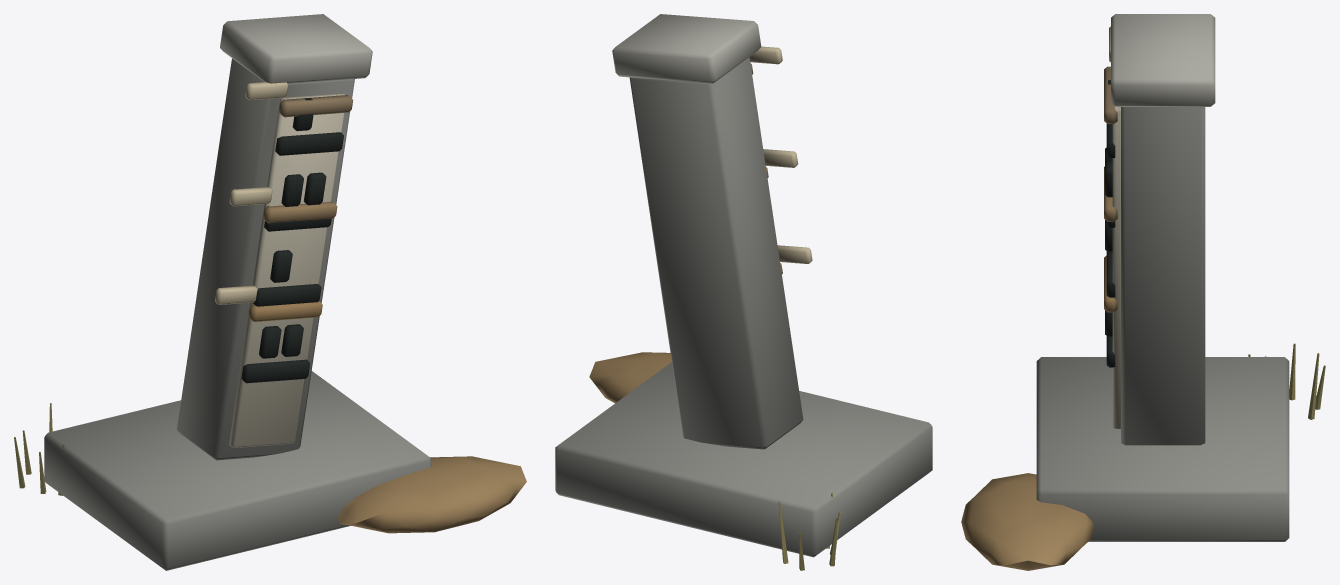
Rendered from flood_staff_b.glb.
3 views of the same model, side by side, from view 1: azimuth 30°, elevation 25°; view 2: azimuth 150°, elevation 25°; view 3: azimuth 270°, elevation 25° (orthographic). The views are drawn at different scales.
Visible parts, largest first — view 1: Surface; view 2: Surface; view 3: Surface.
Part boxes in pixels (bbox=[...]): Surface: bbox=[14, 14, 526, 570]; Surface: bbox=[555, 14, 932, 570]; Surface: bbox=[961, 14, 1325, 570].
Bounding box in the file's own units: 4 × 4.67 × 3.25.
